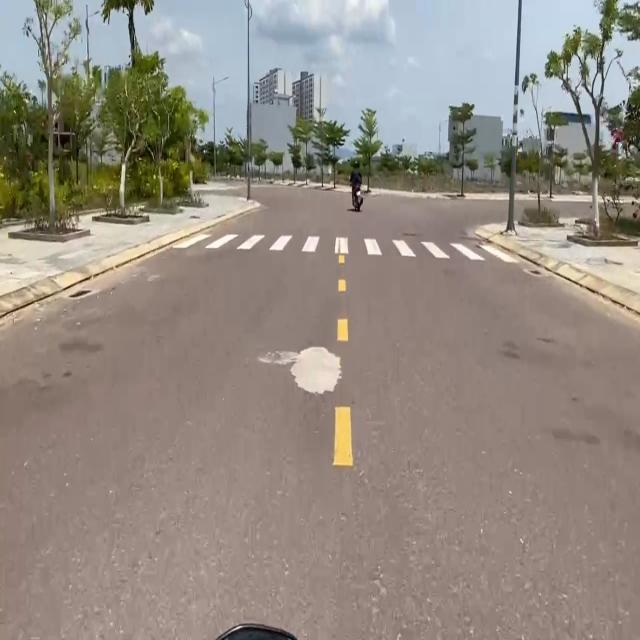walk-crossing: (168, 222, 524, 258)
